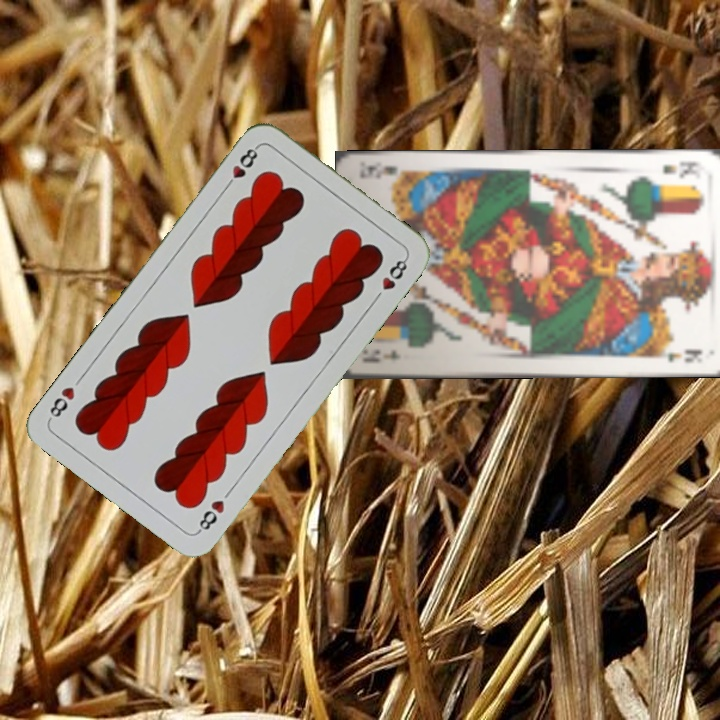EK: (658, 157, 709, 182), (361, 345, 403, 365)
H8: (220, 142, 262, 192), (194, 495, 228, 536)
